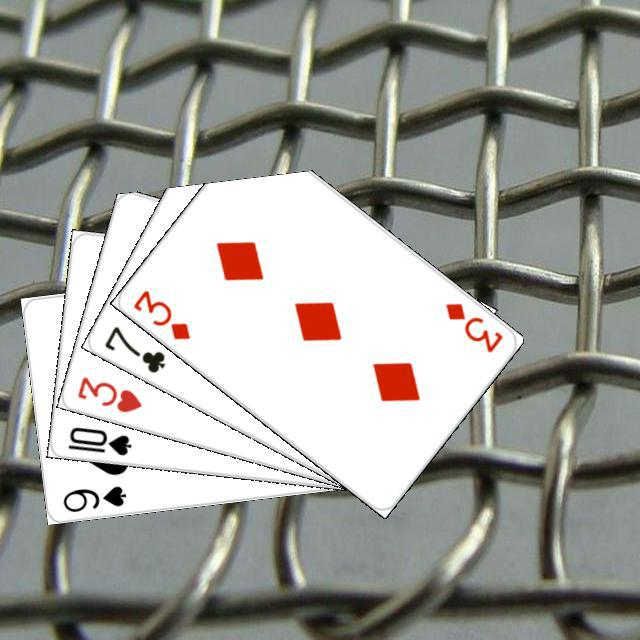10s: (63, 422, 133, 458)
3d: (128, 284, 193, 342), (440, 297, 505, 355)
3h: (72, 371, 144, 414)
7c: (99, 321, 167, 375)
9s: (58, 481, 128, 514)
